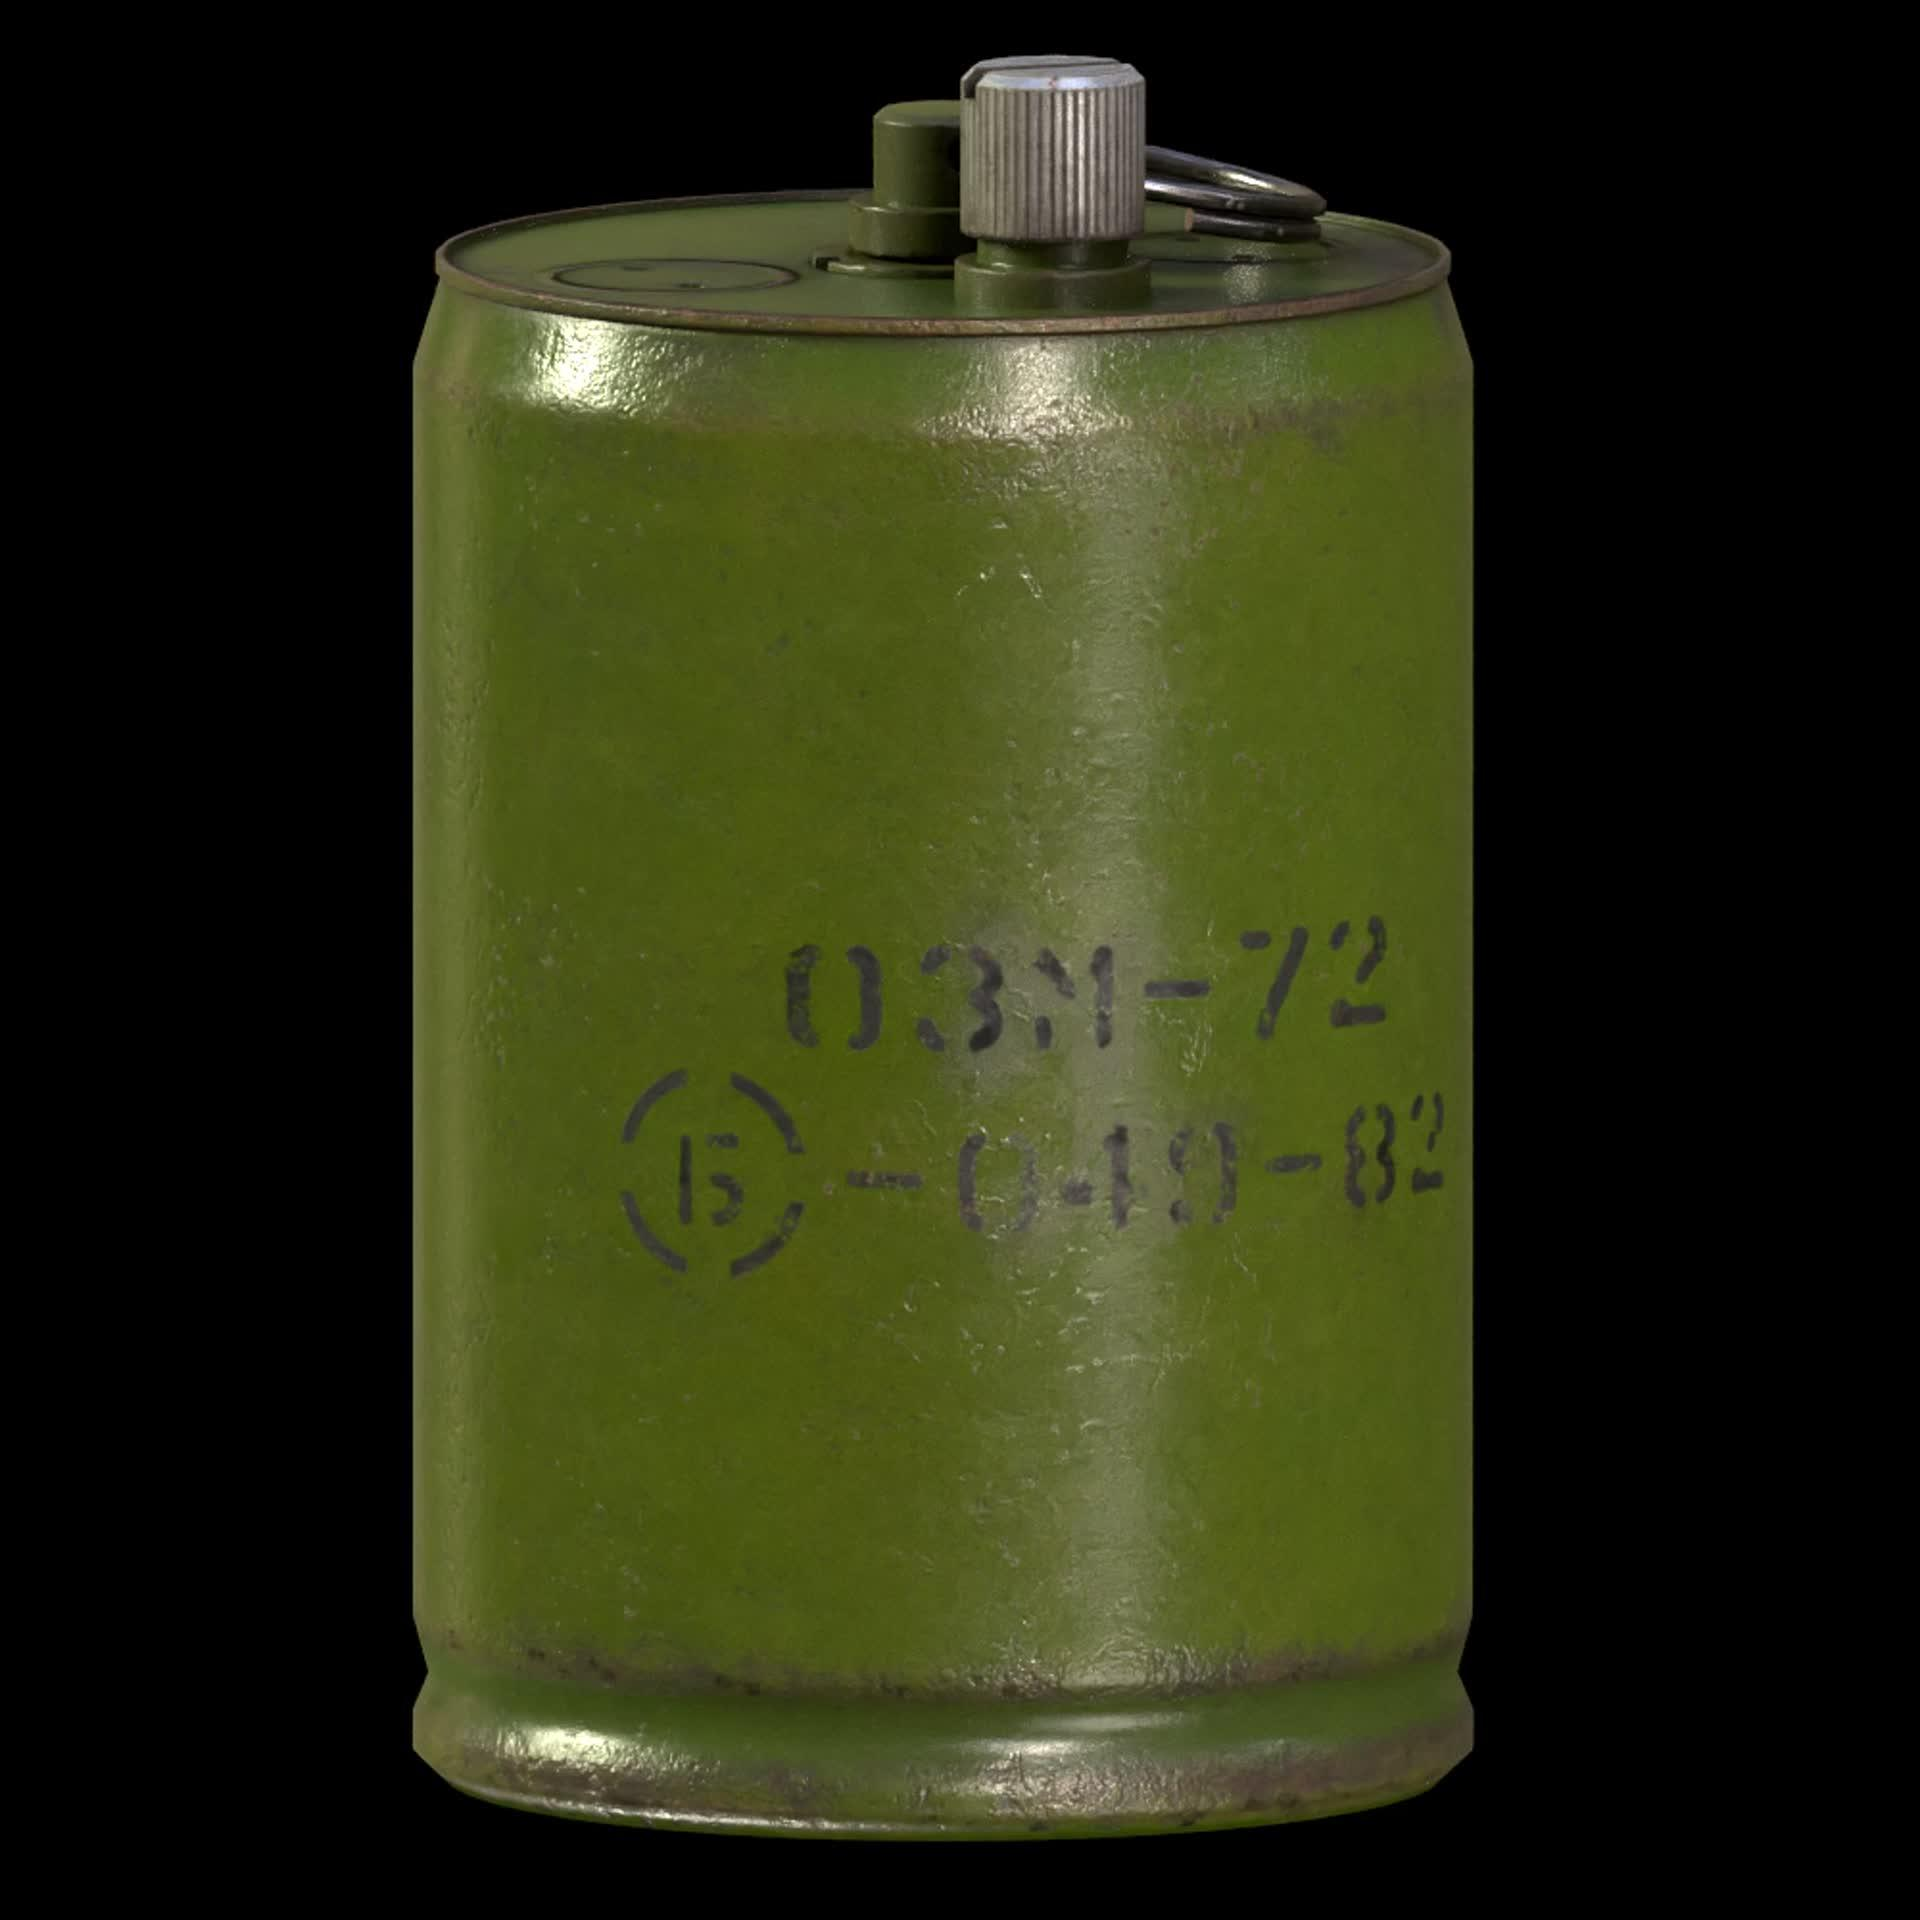OZM 72: (397, 37, 1489, 1848)
